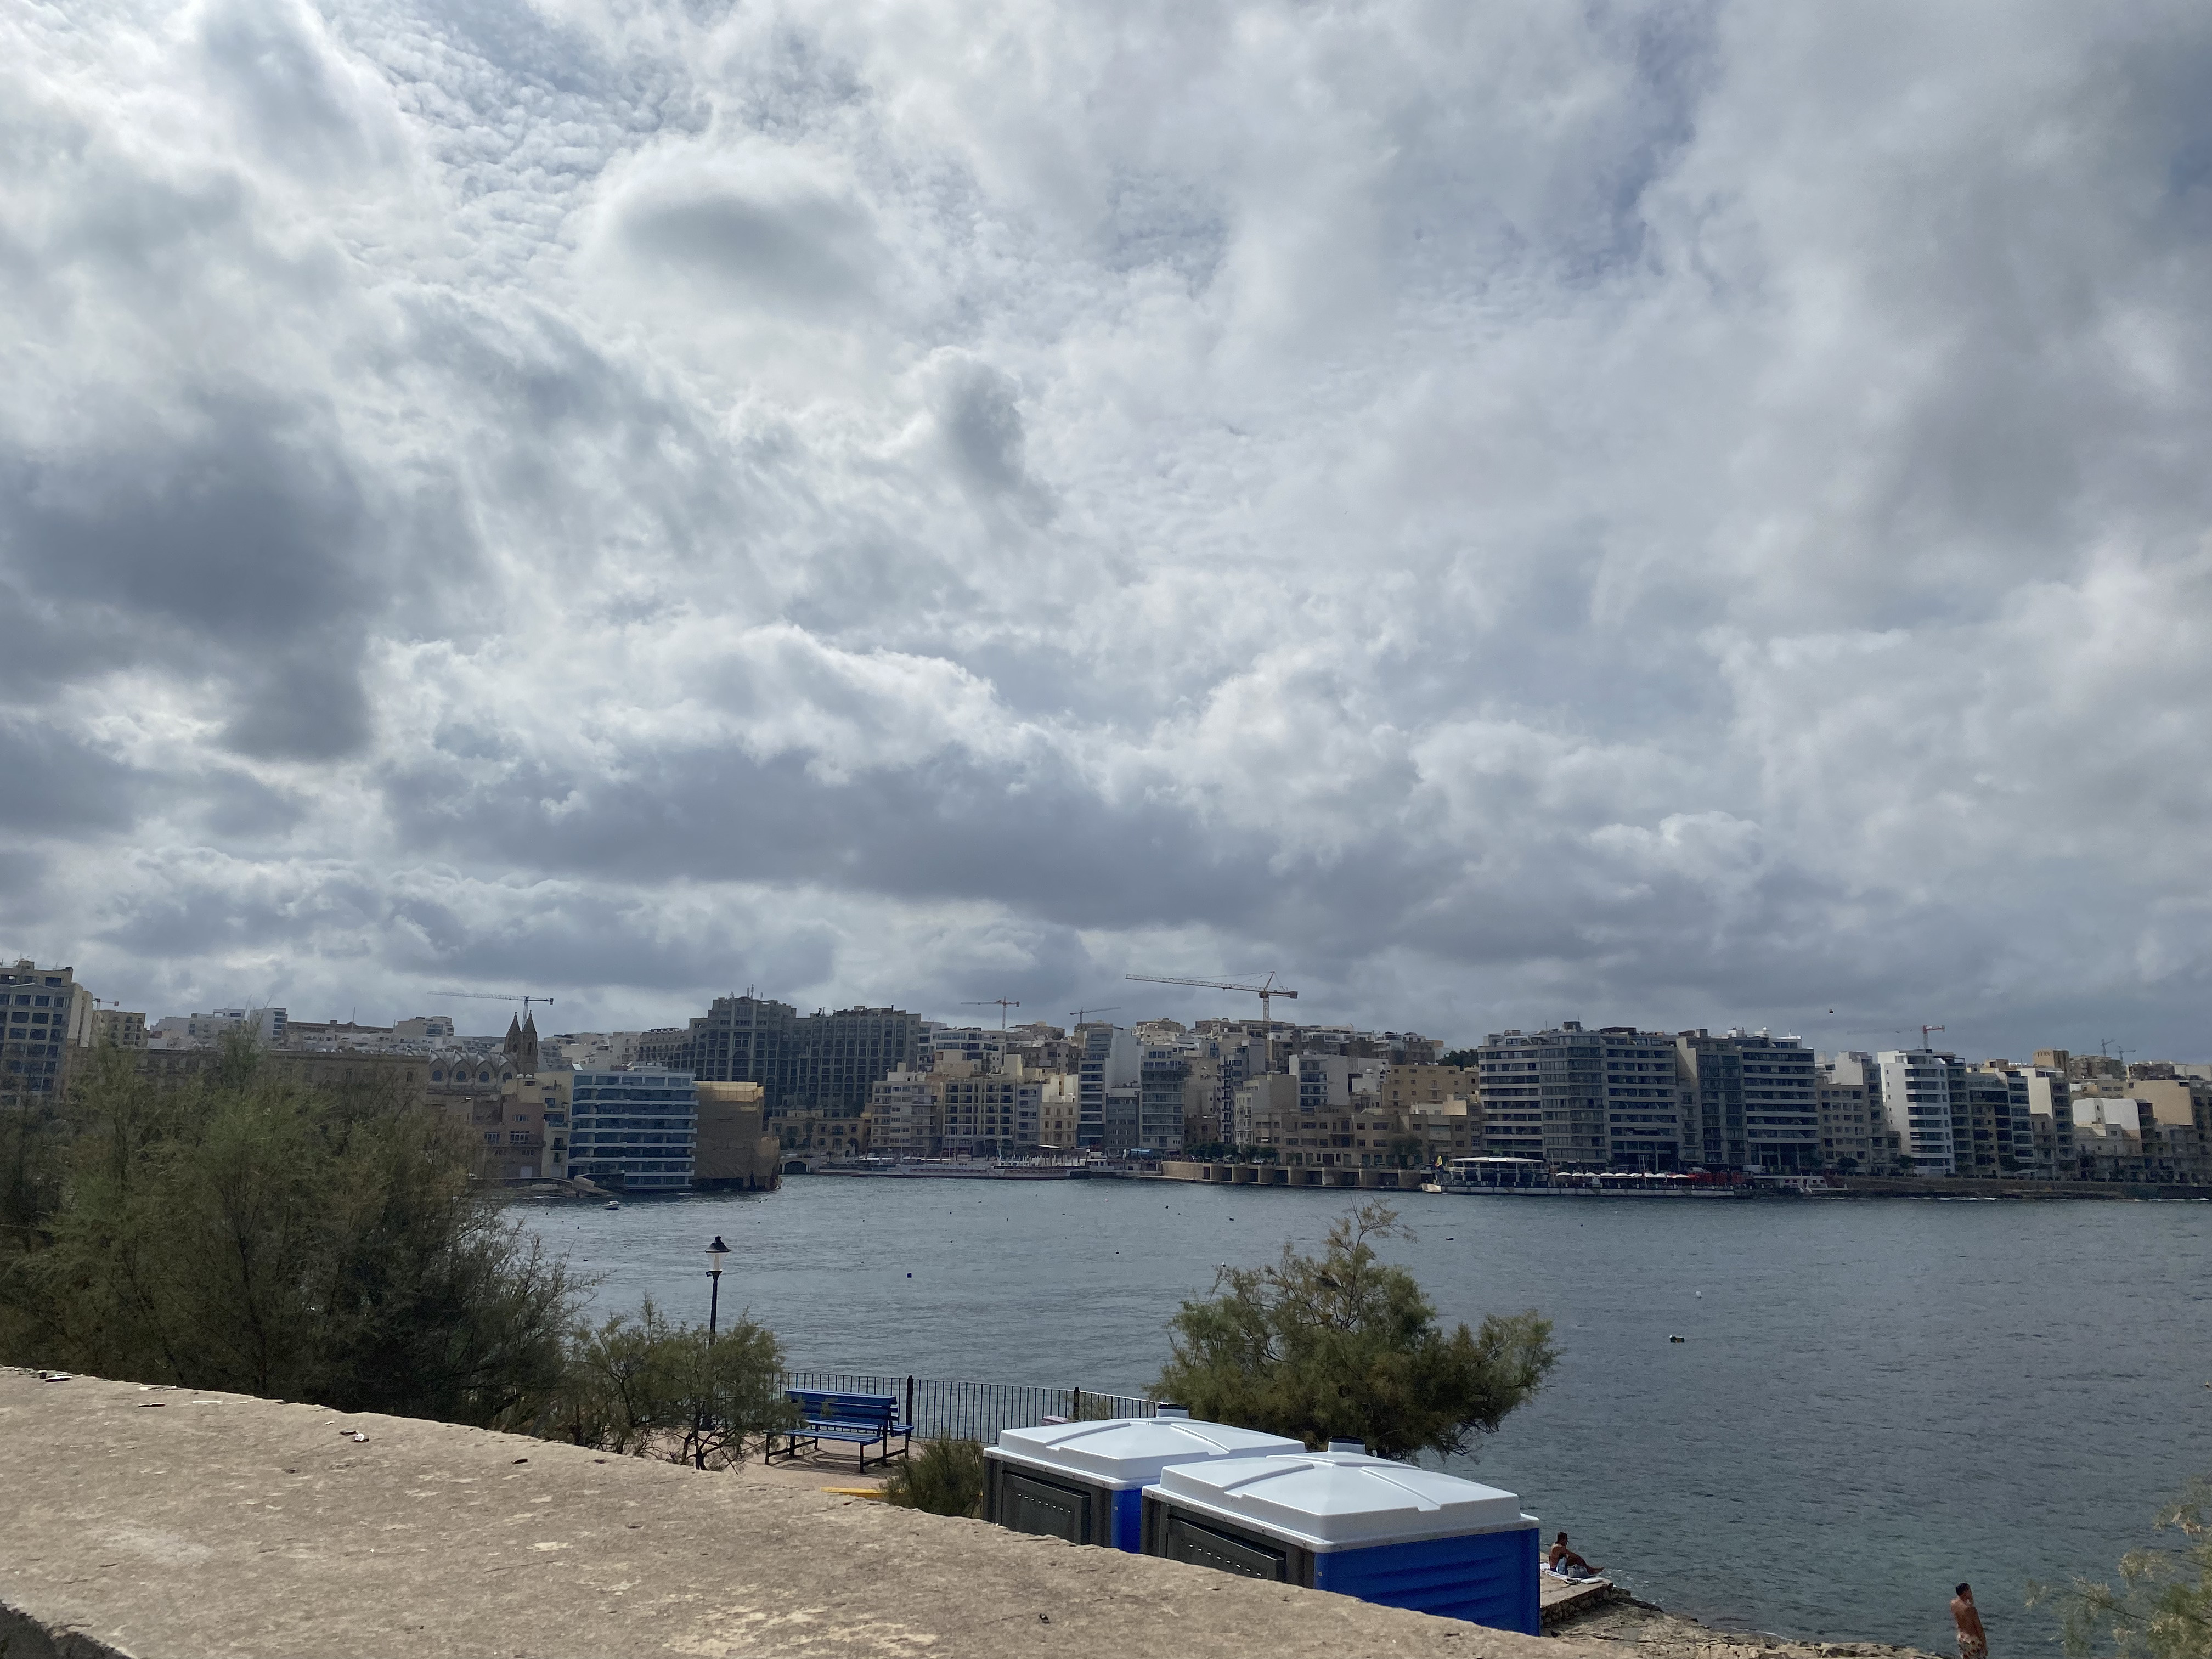crane: (1116, 955, 1346, 1021)
